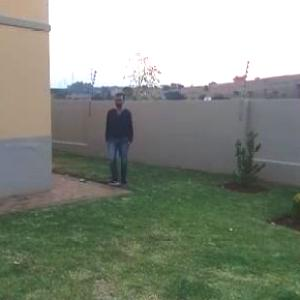follow: (103, 89, 138, 195)
